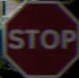Stop: (10, 5, 75, 72)
